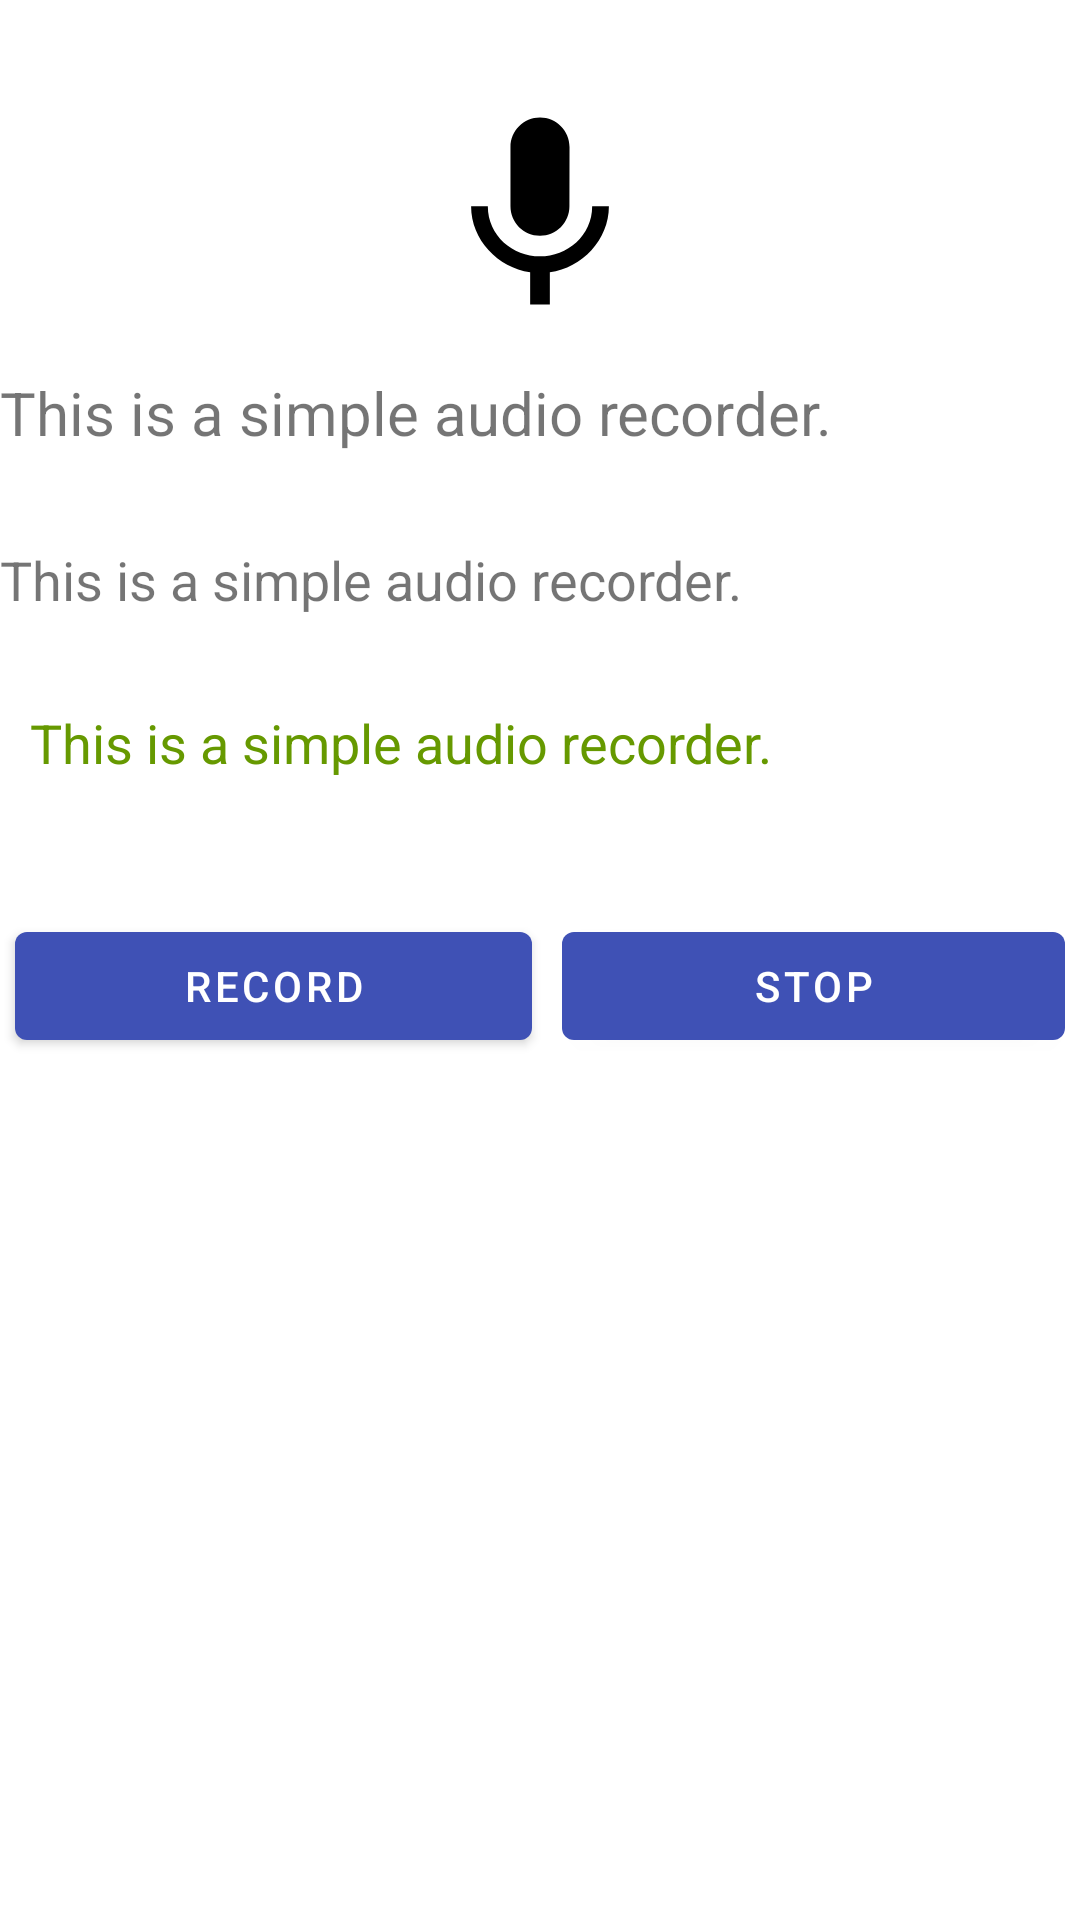

Where icons sit on this 1080 × 1920 app screen, as [x1, y1, x2, y2]:
microphone: [471, 117, 609, 305]
